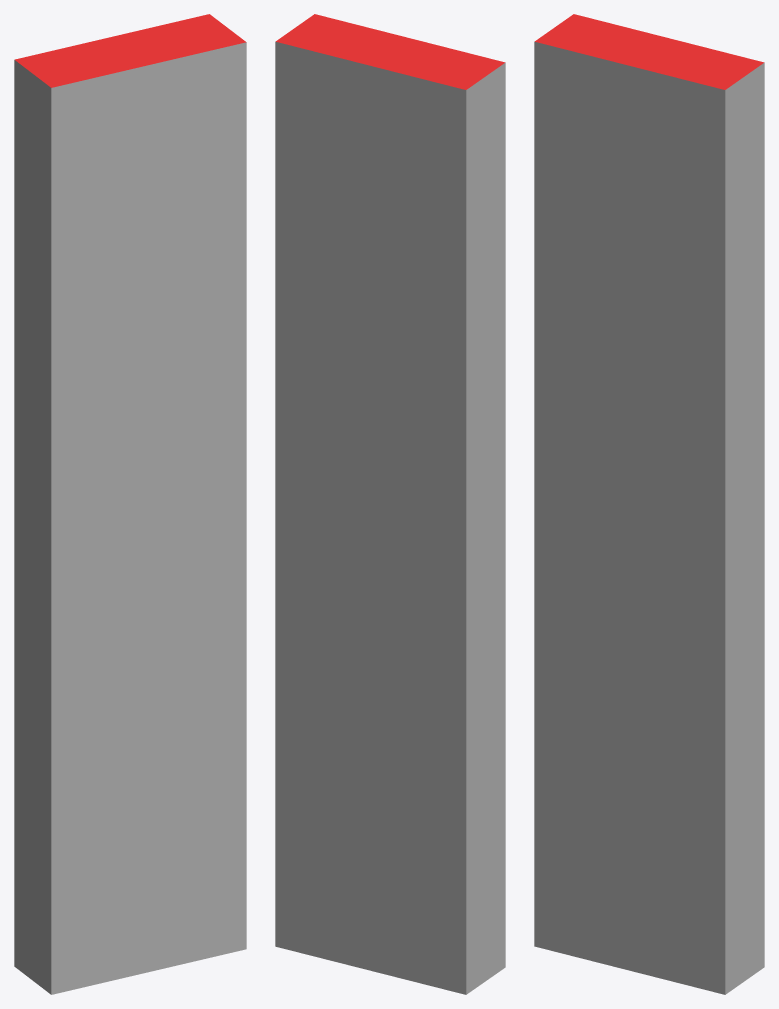
The model's file is DEBE3D04YY50002bn2.dae.
3 views of the same model, side by side, from view 1: azimuth 30°, elevation 25°; view 2: azimuth 150°, elevation 25°; view 3: azimuth 330°, elevation 25° (orthographic).
Size of the model in its own units: 3.72 by 1.34 by 16.61.
